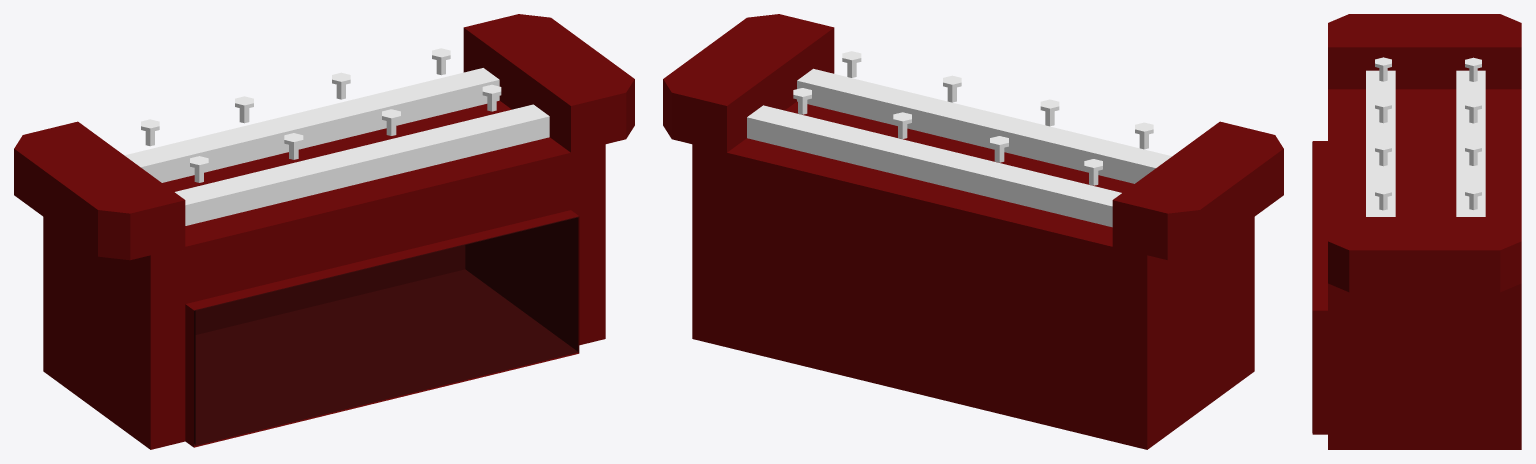
The model's file is xylophone_body_rec_modif.FBX.
3 renders of one model, left to right at view 1: azimuth 30°, elevation 25°; view 2: azimuth 150°, elevation 25°; view 3: azimuth 270°, elevation 25°, orthographic. The views are drawn at different scales.
Parts seen in each view (by area): view 1: xylophone_body_rec; view 2: xylophone_body_rec; view 3: xylophone_body_rec.
Part boxes in pixels (left/top/right/bottom): xylophone_body_rec: left=14, top=14, right=634, bottom=449; xylophone_body_rec: left=663, top=14, right=1283, bottom=449; xylophone_body_rec: left=1312, top=14, right=1521, bottom=449.
Size of what is drawn, in the model's own units: 7.43 by 2.78 by 3.27.
